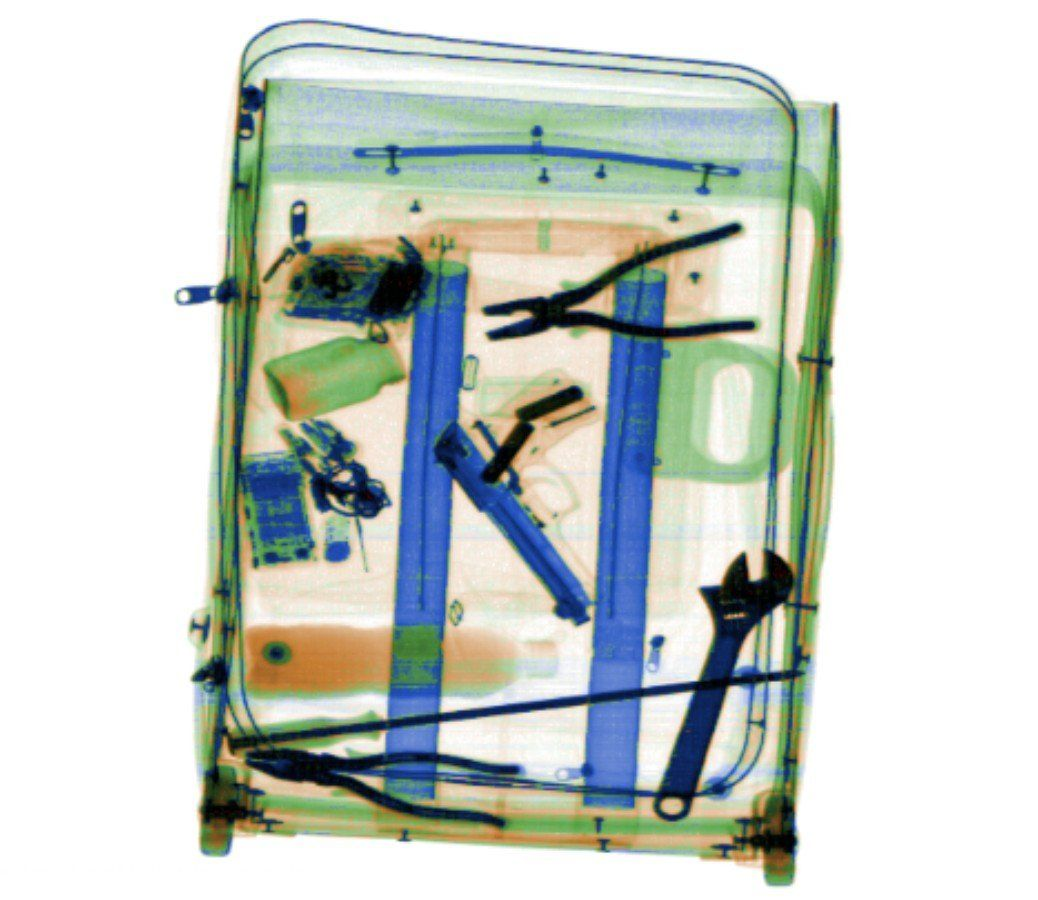gun: (429, 362, 619, 633)
